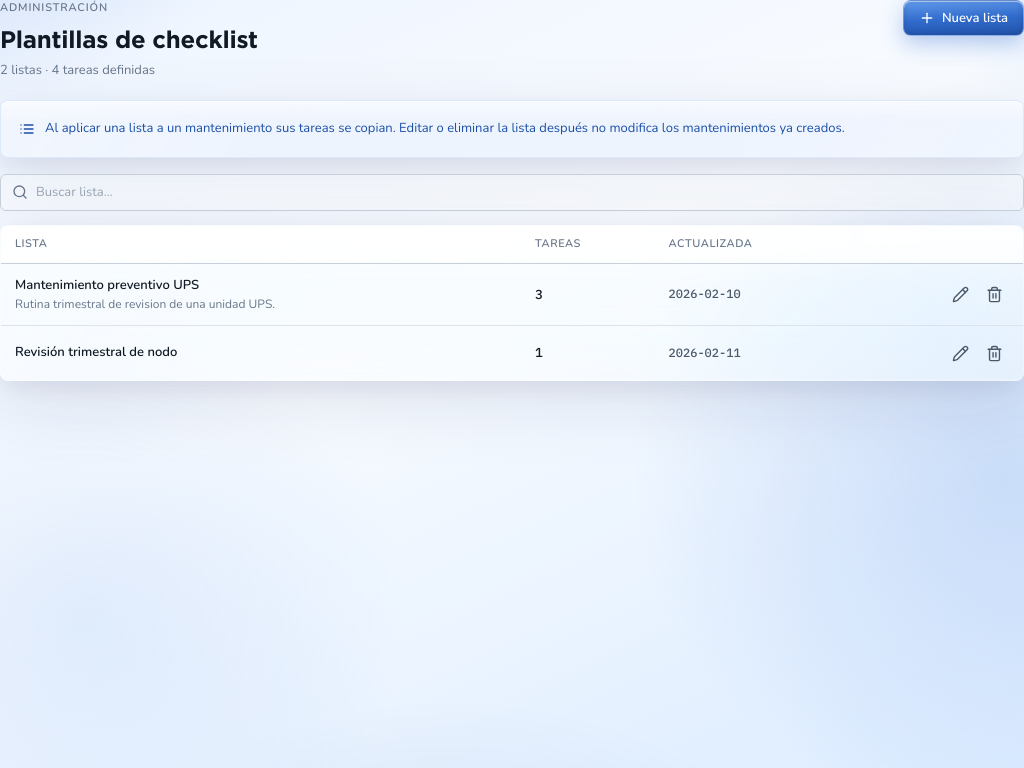
Test: ChecklistTemplates › eliminacion › pide confirmacion y avisa de que los mantenimientos no se ven afectados
Check: the text "Mantenimiento preventivo UPS" is shown, box 15,276 -> 199,294
Click the button titled "Eliminar" in the row of "Mantenimiento preventivo UPS" at (994, 294), box 979,279 -> 1009,309
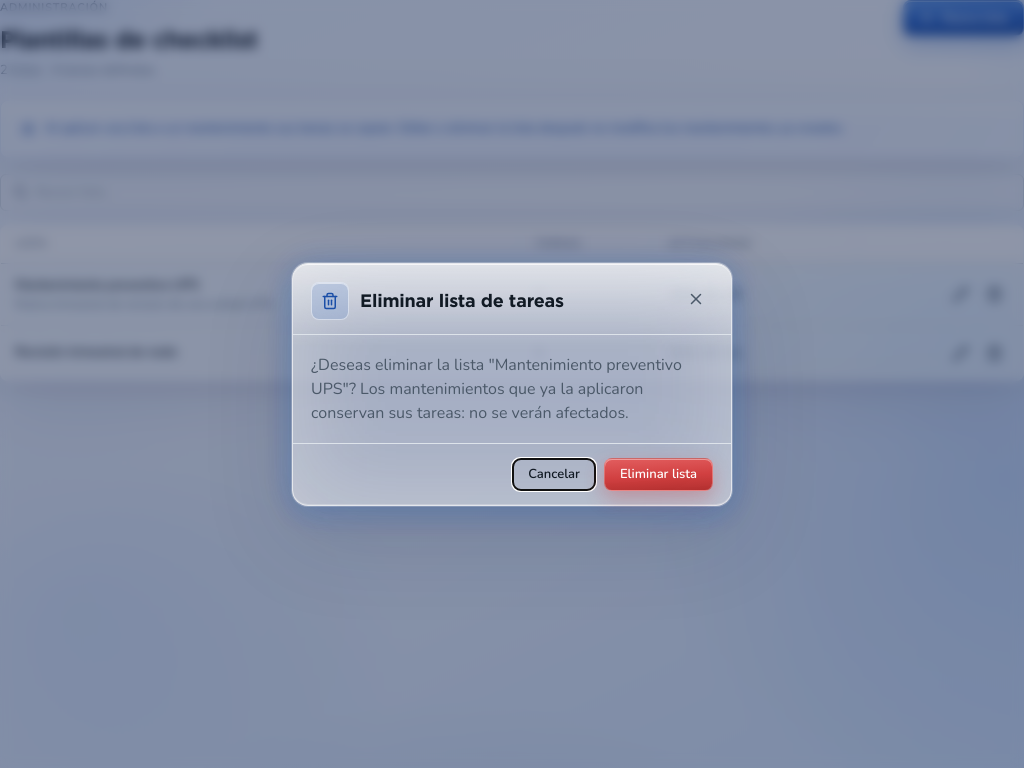
Check: the text "conservan sus tareas" is shown, box 311,354 -> 682,424
